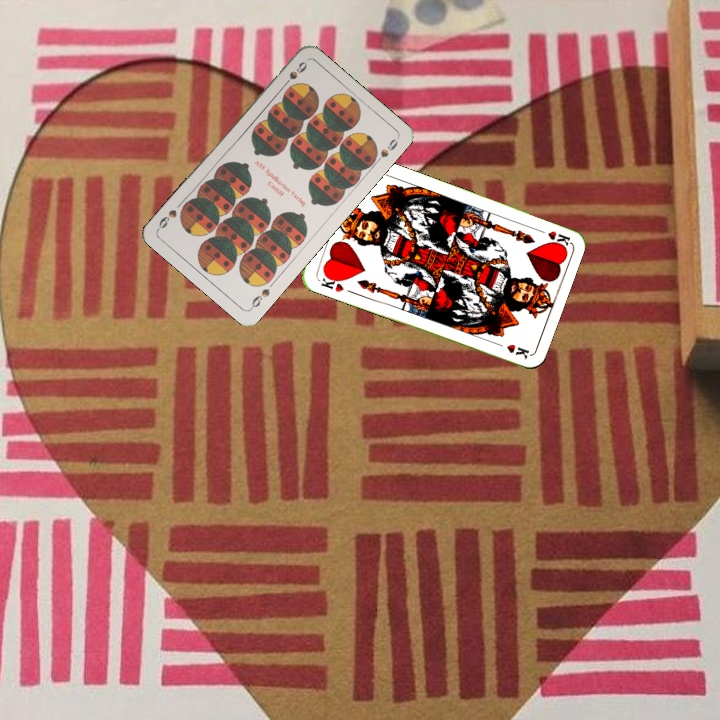HK: (531, 225, 572, 249), (317, 270, 346, 295)
S9: (278, 57, 310, 91), (247, 284, 272, 312)
